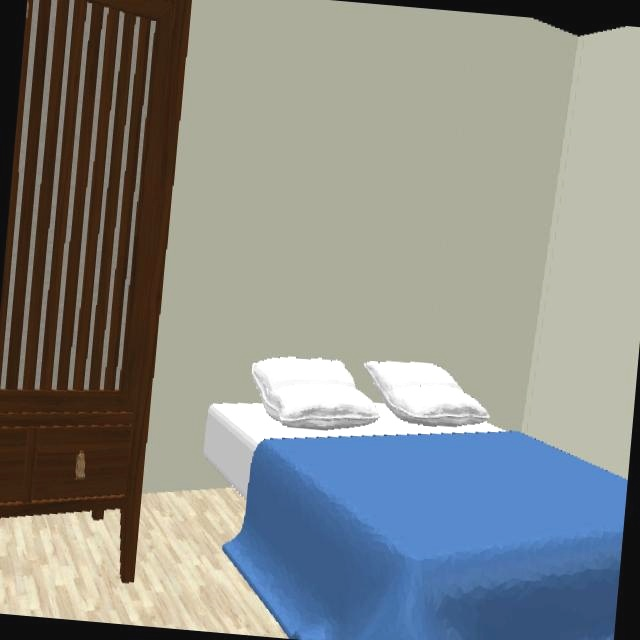bed: (203, 357, 626, 640)
pillow: (363, 361, 503, 433), (250, 357, 380, 430)
